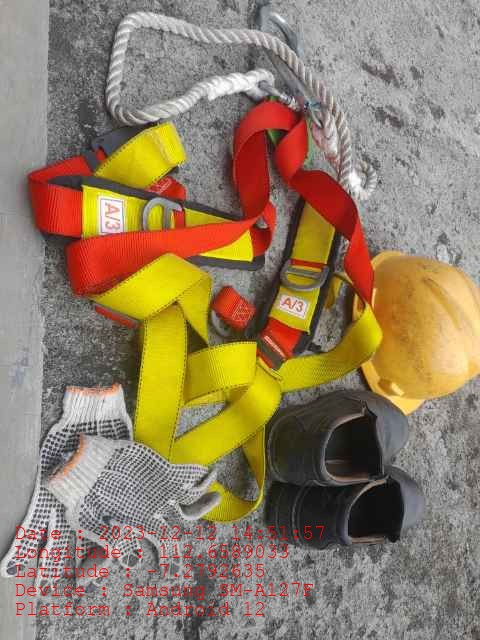TAMBANG_SLING: (108, 5, 382, 221)
